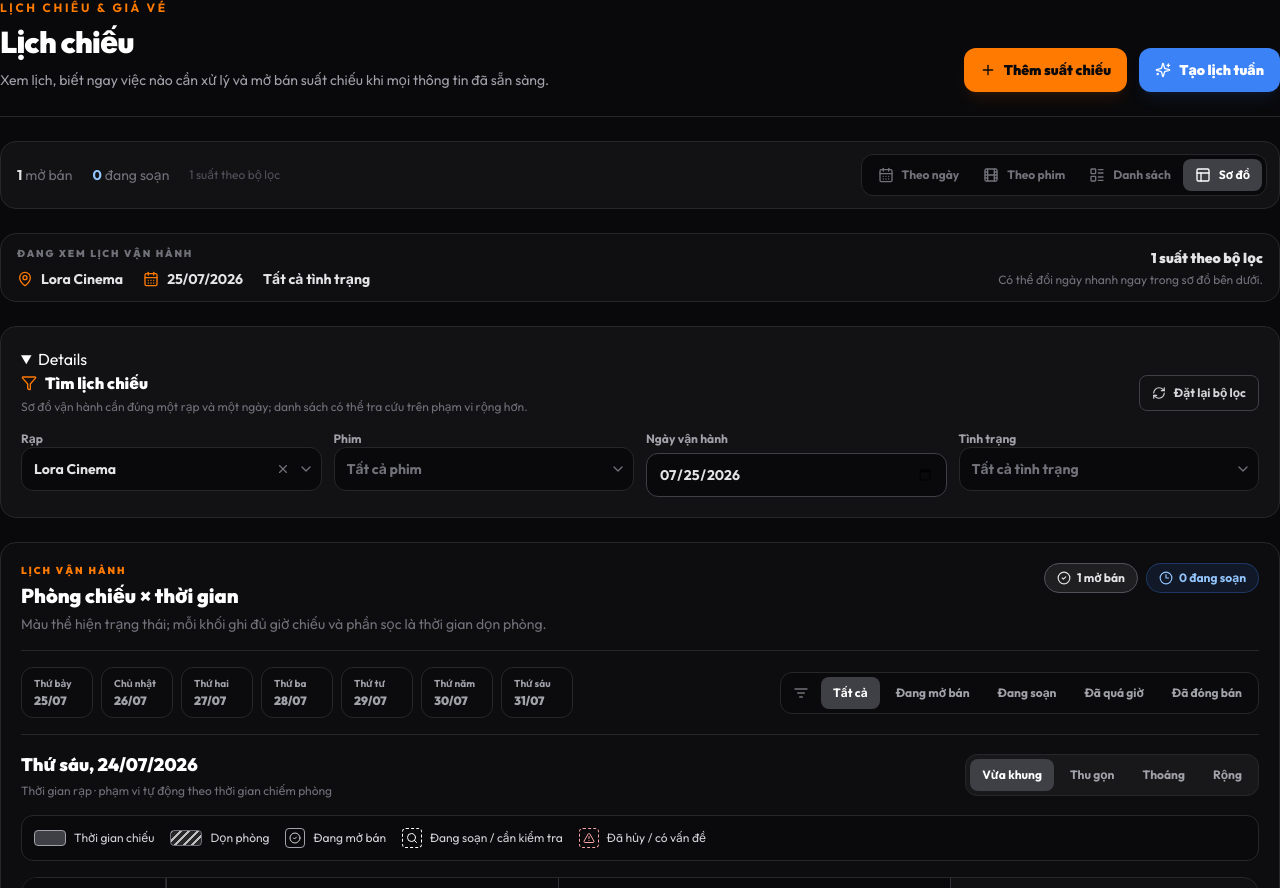
Test: ShowtimeTable cinema timezone › shows a safe fallback indicator for invalid cinema timezone data
Click the button "Danh sách". click: click(1130, 175)
box: [1077,159,1183,191]
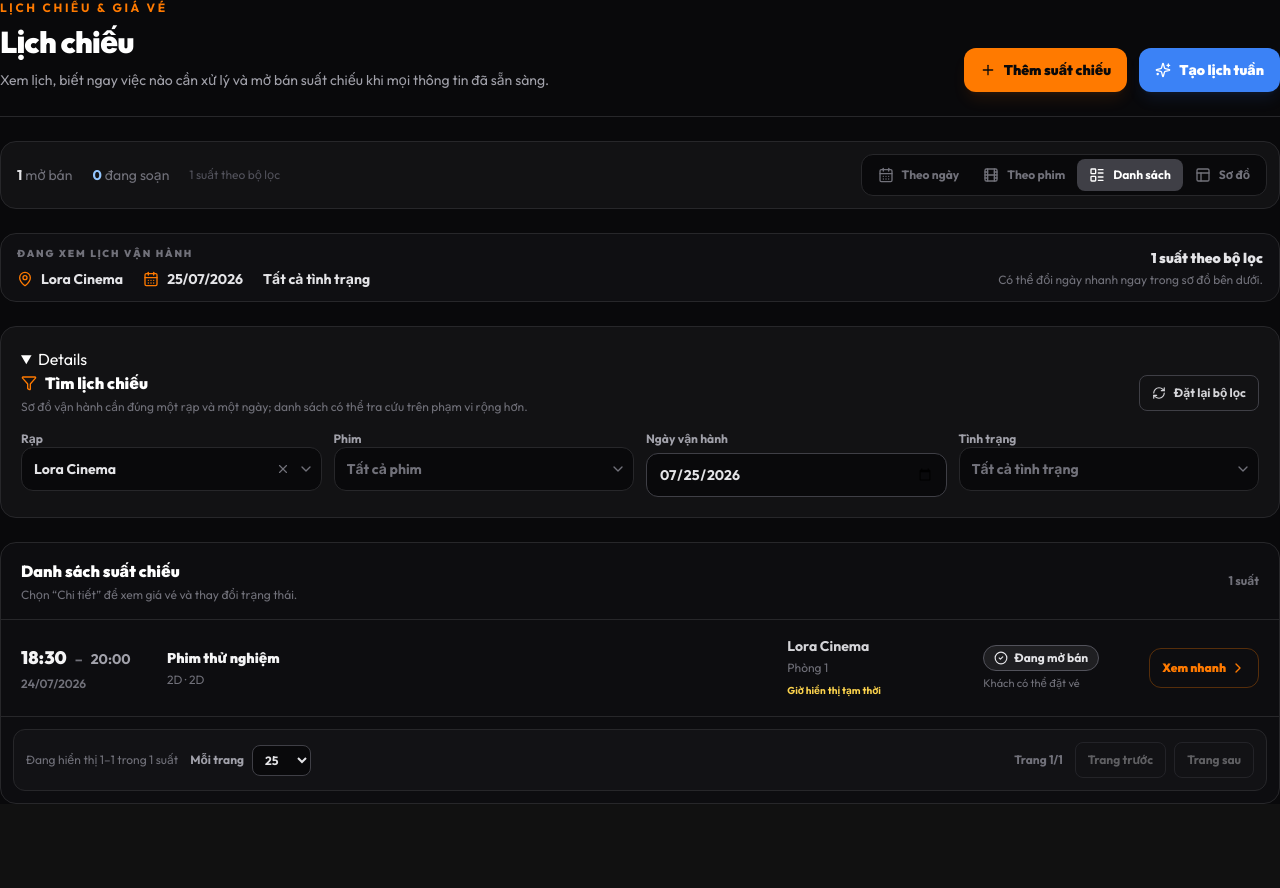
Check: the text "18:30" is shown, box [21,644,67,672]
Check: the text "Giờ hiển thị tạm thời" is shown, box [787,683,881,698]
